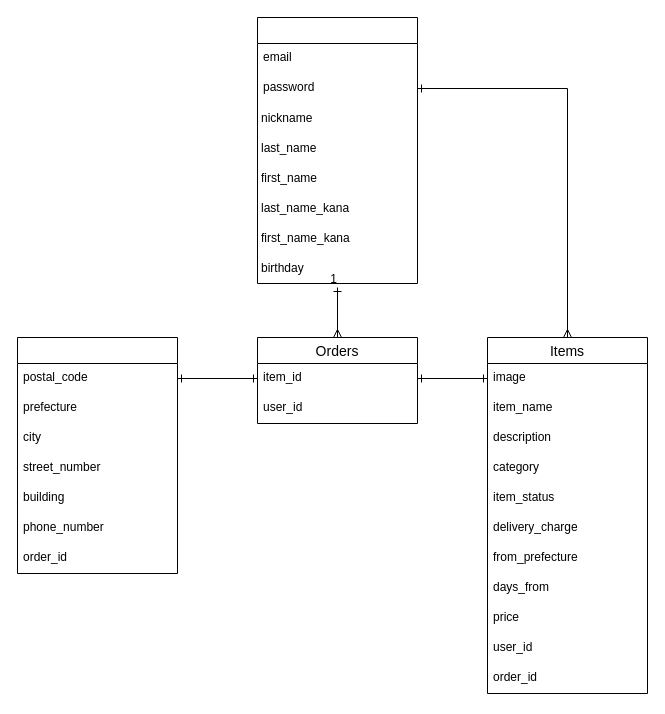
This 665x714 diagram has some shape labels left out. The shapes that lost their labels are listed below. From the top down, each one's box as (x1, y1, x2, y2) in pixels, then its label:
(256, 16, 418, 284): Users
(16, 336, 178, 574): Adresses
